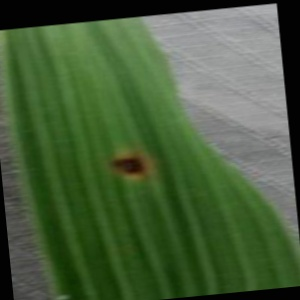Bacterial_Leaf_Blight: (102, 148, 155, 184)
